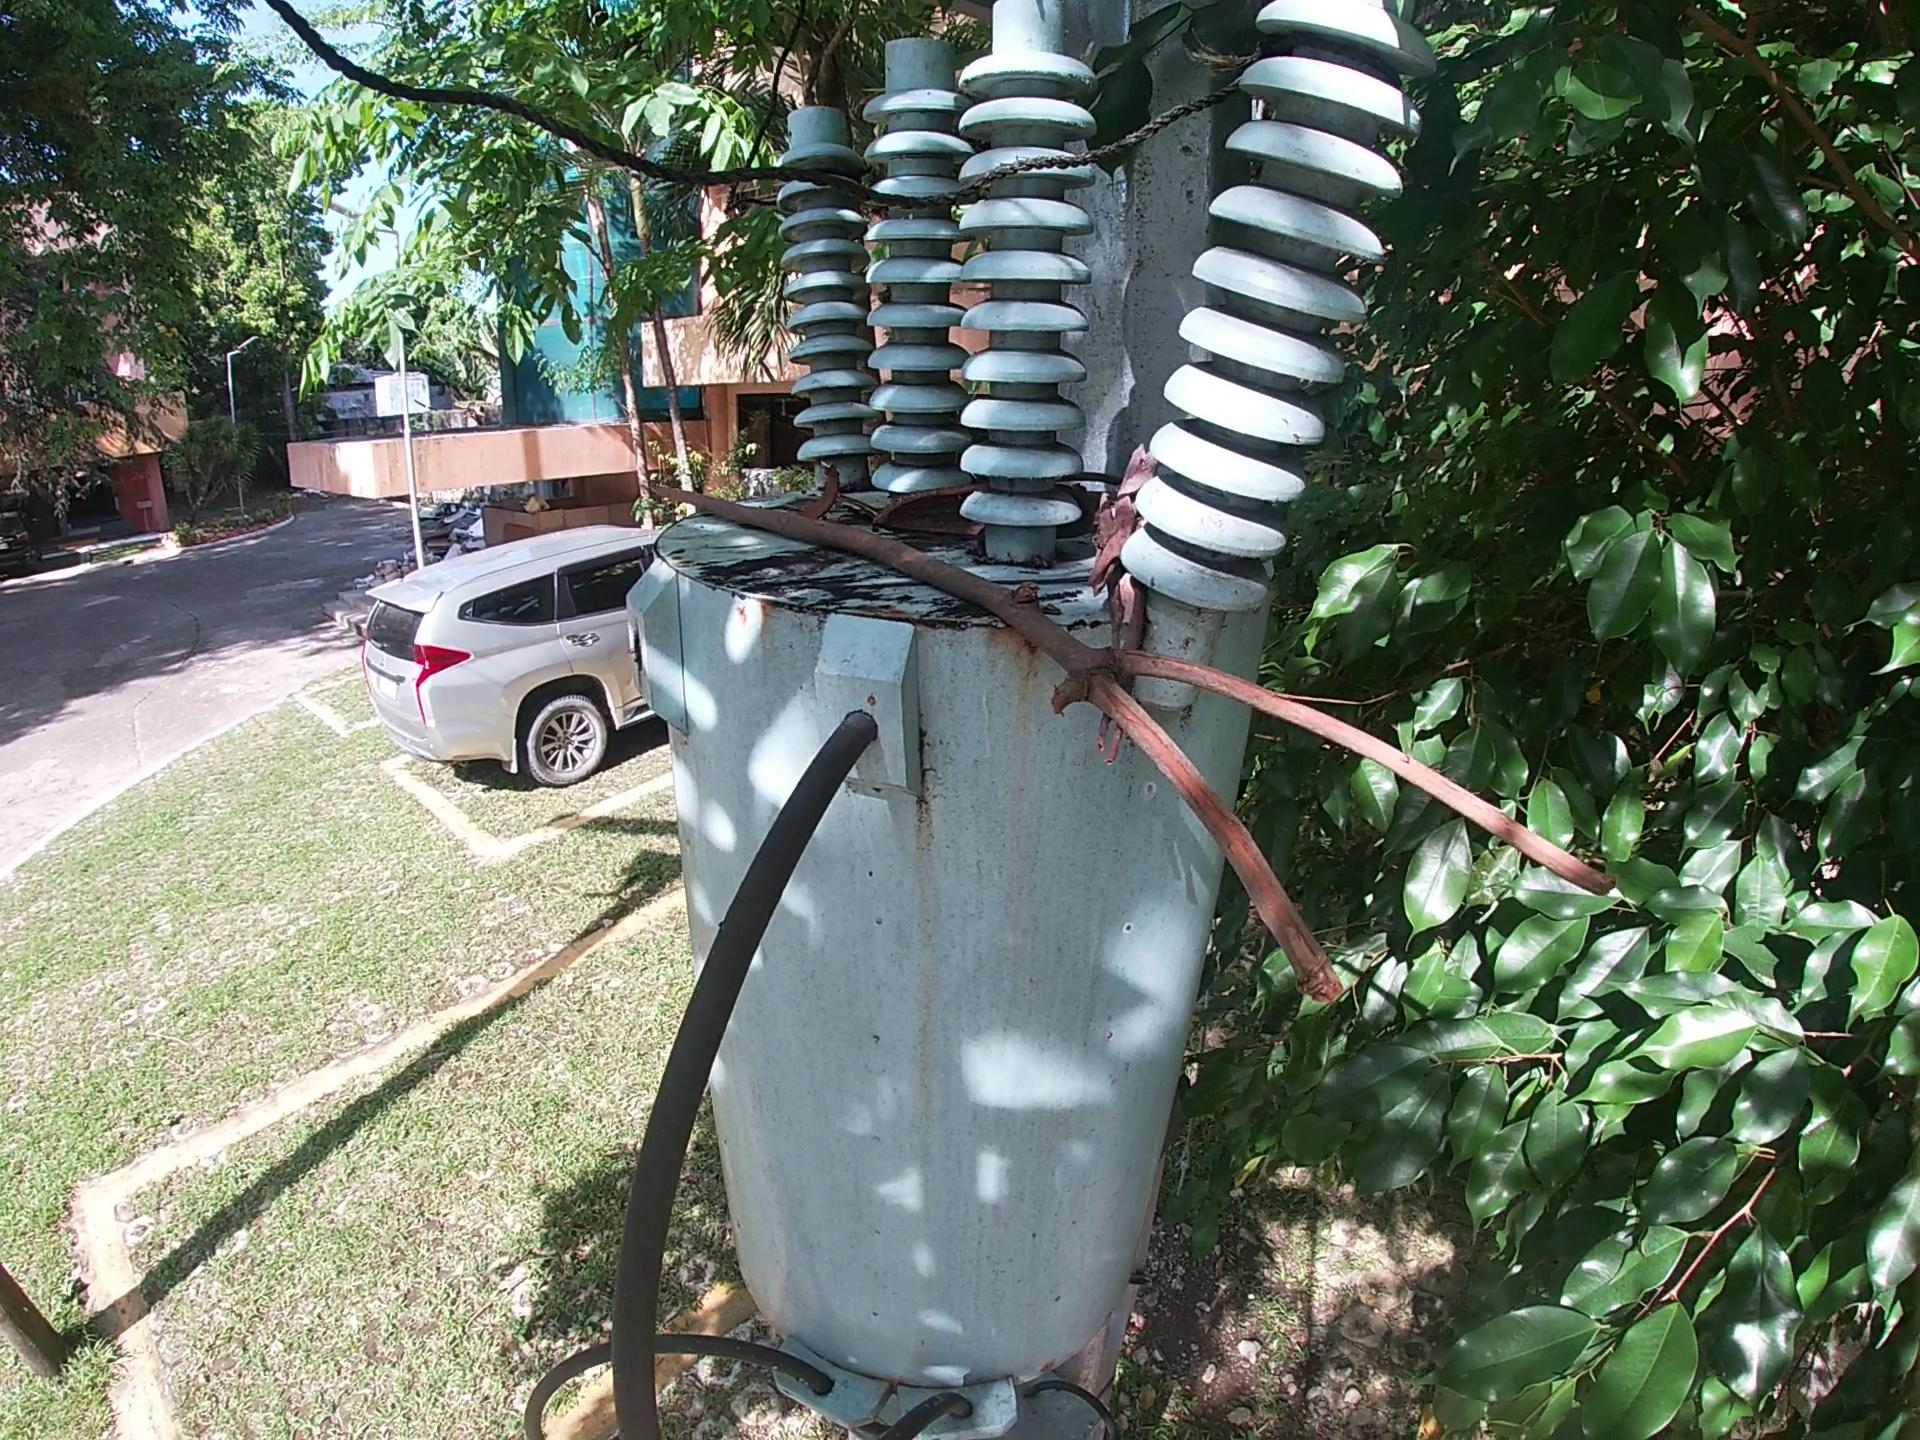mahogany fruit: (869, 483, 966, 529), (804, 458, 862, 508)
tree branch: (655, 473, 1621, 1027), (1101, 434, 1155, 765), (1061, 464, 1117, 501)
